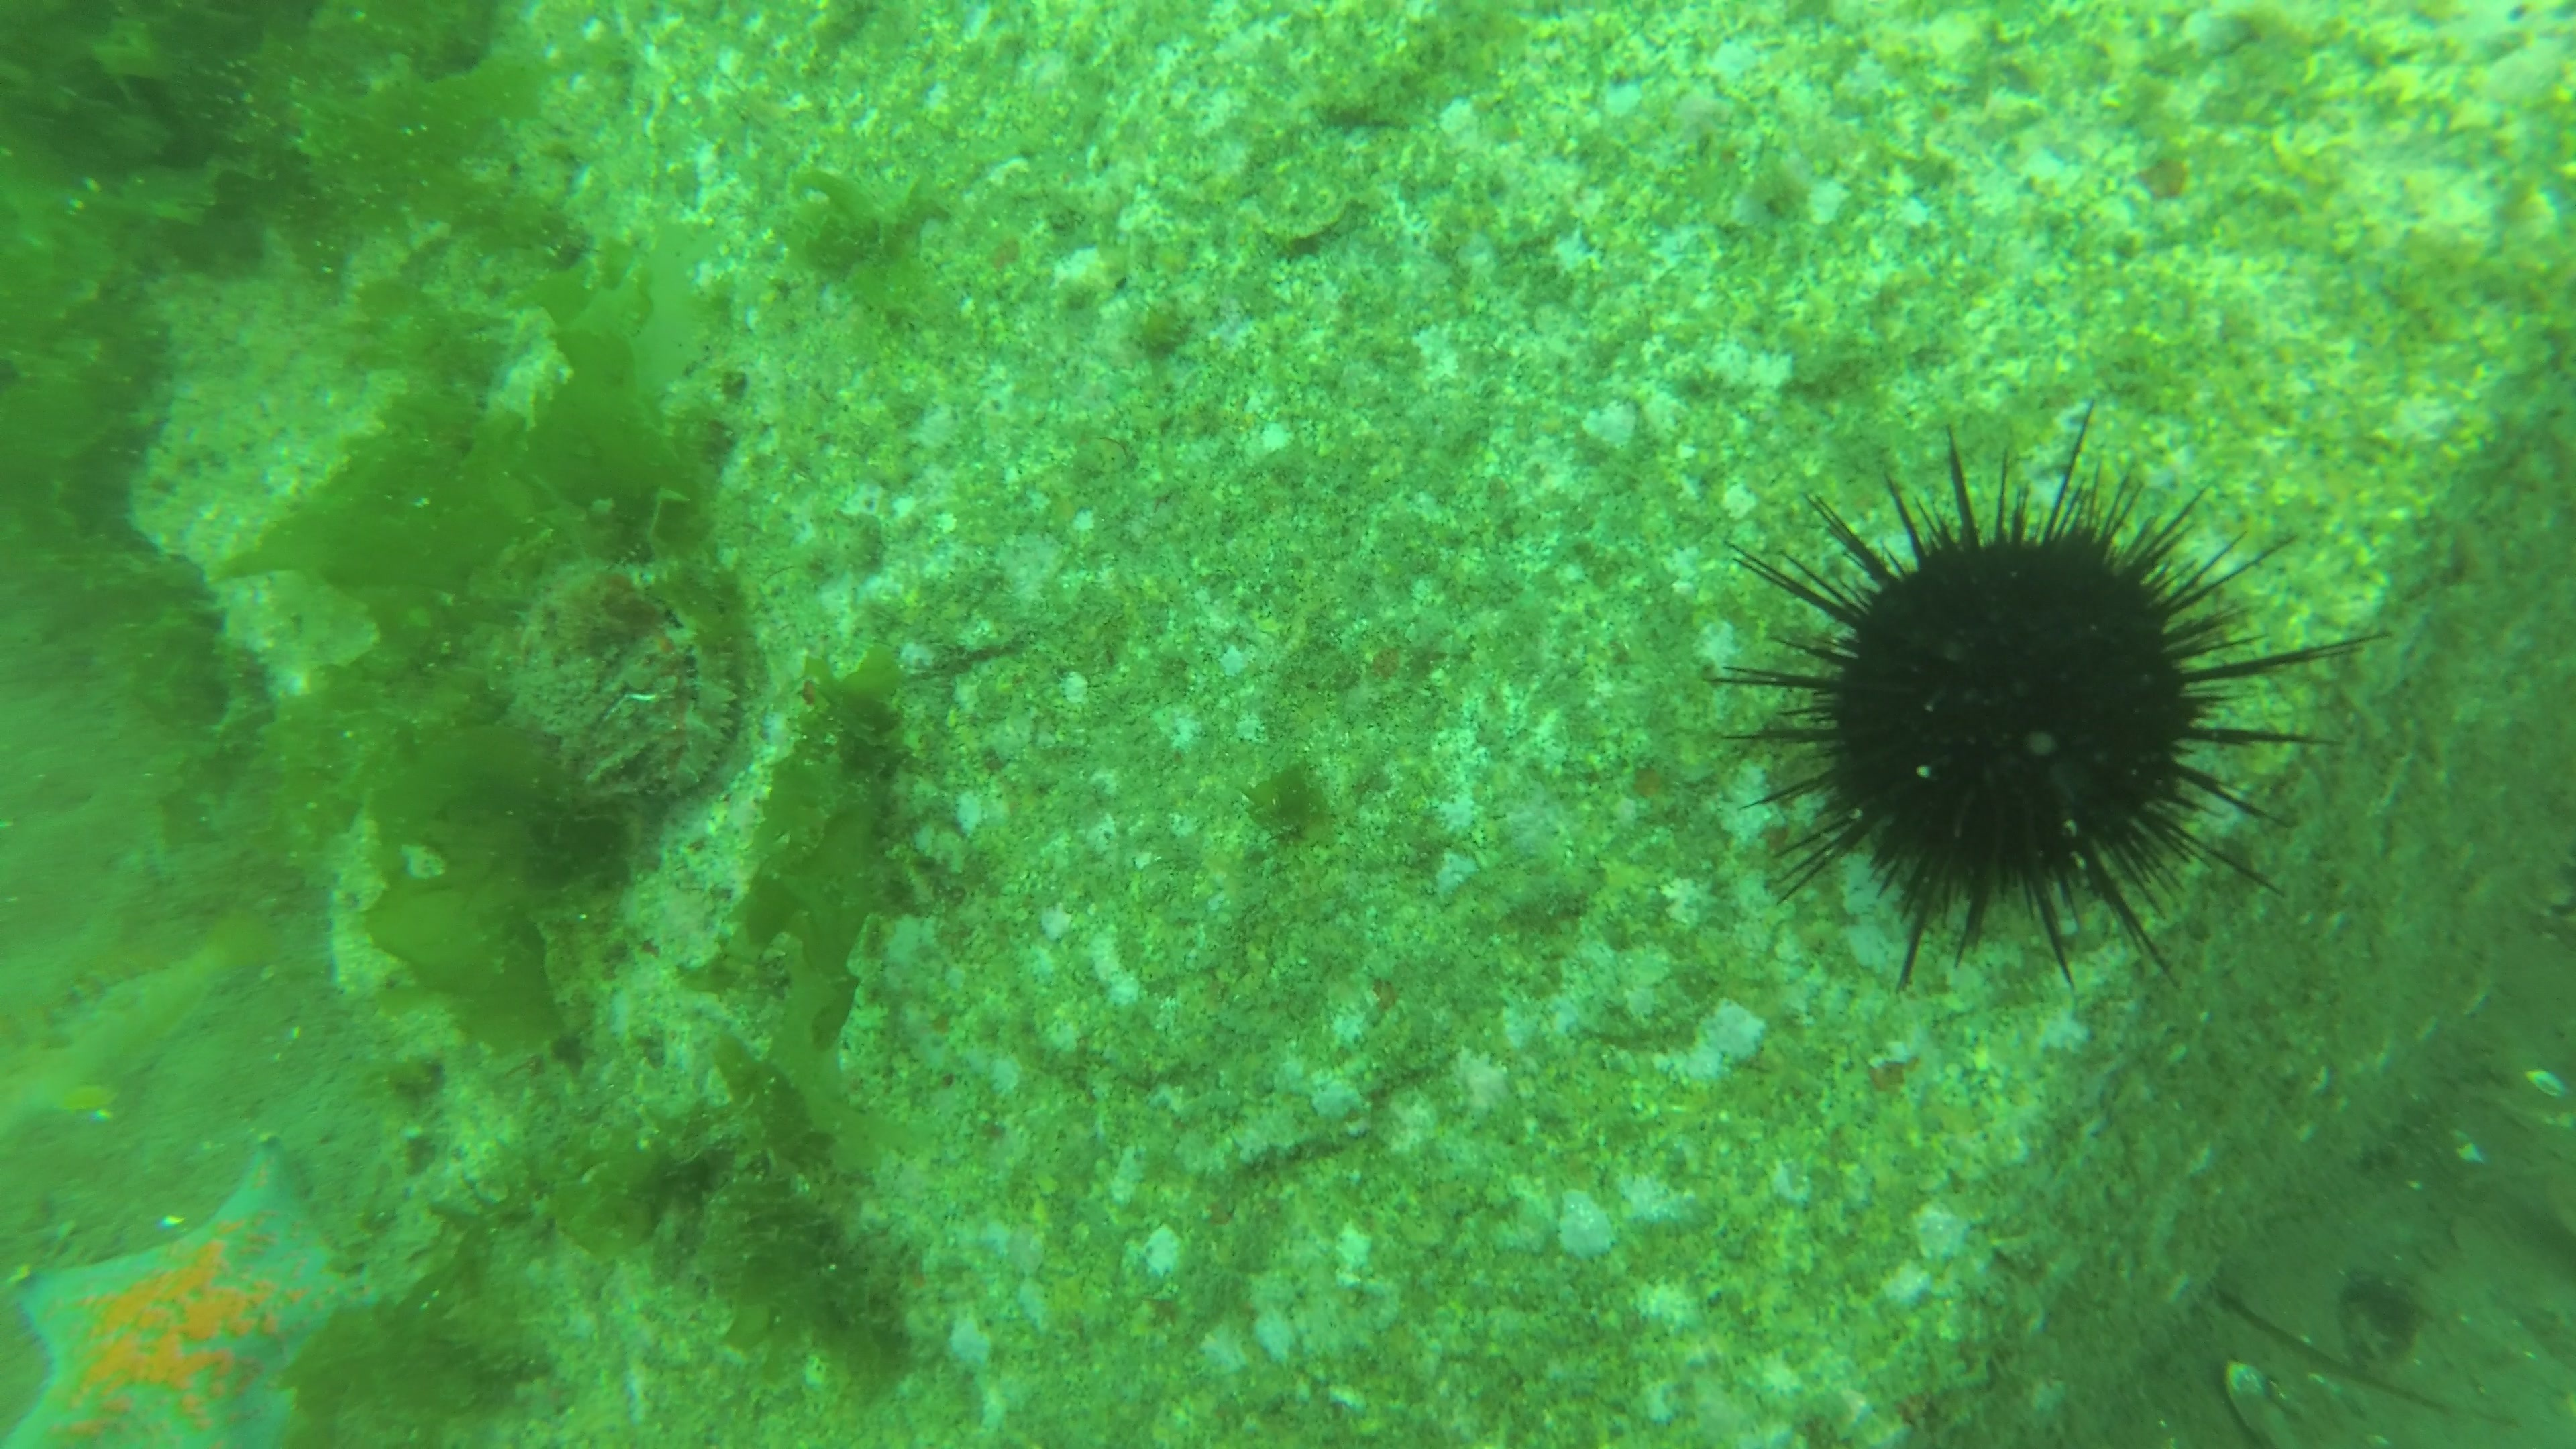echinus: (1709, 407, 2394, 998)
starfish: (4, 1145, 386, 1449)
